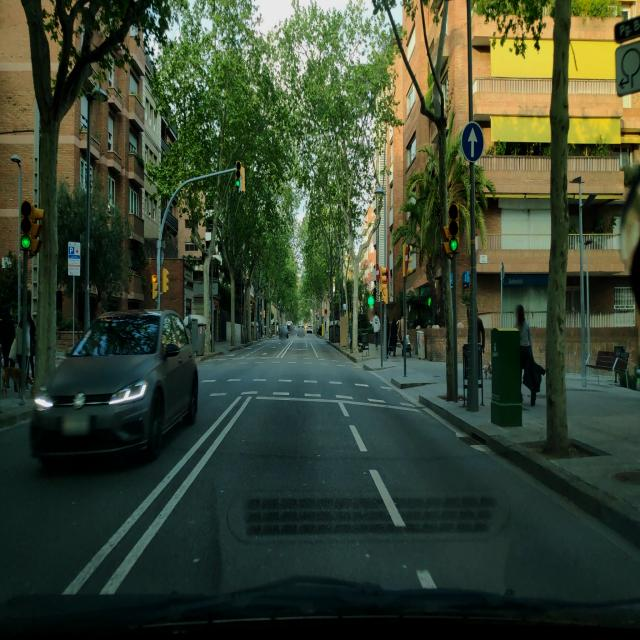car: (28, 307, 199, 472), (296, 325, 306, 339), (279, 324, 288, 339), (306, 325, 314, 335)
